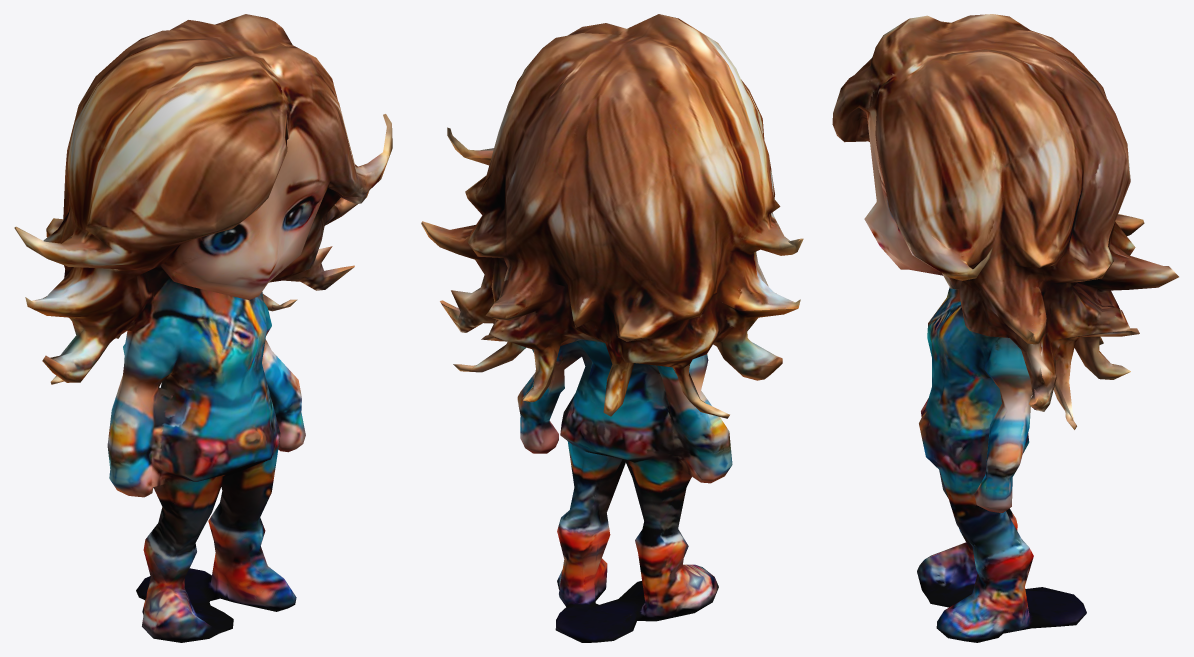
Rendered from tress.fbx.
3 views of the same model, side by side, from view 1: azimuth 30°, elevation 25°; view 2: azimuth 150°, elevation 25°; view 3: azimuth 270°, elevation 25° (orthographic). The views are drawn at different scales.
Visible parts, largest first — view 1: ProcessedMeshNode_LOD1; view 2: ProcessedMeshNode_LOD1; view 3: ProcessedMeshNode_LOD1.
Boxes of the visible parts, left/top/right/bottom form: ProcessedMeshNode_LOD1: left=14, top=14, right=392, bottom=642; ProcessedMeshNode_LOD1: left=421, top=14, right=803, bottom=642; ProcessedMeshNode_LOD1: left=832, top=14, right=1178, bottom=642.
Size of the model in its own units: 59.96 by 89.47 by 48.08.
Materials: 1 (1 with a texture image).
